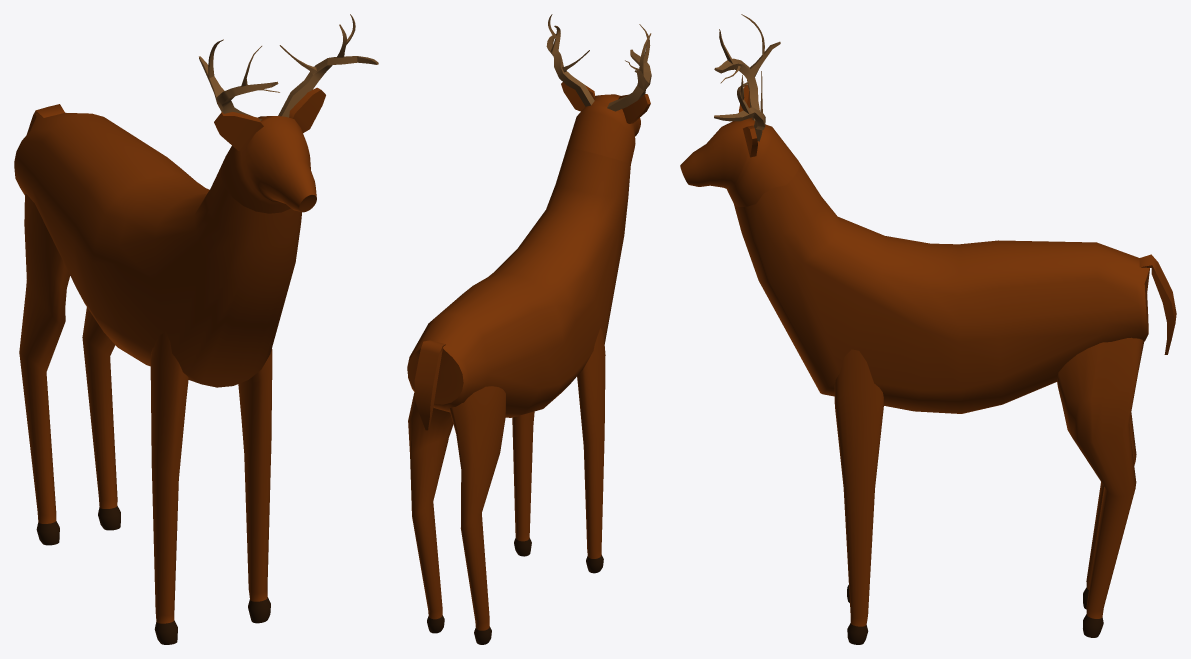
Rendered from deer.fbx.
3 views of the same model, side by side, from view 1: azimuth 30°, elevation 25°; view 2: azimuth 150°, elevation 25°; view 3: azimuth 270°, elevation 25° (orthographic). The views are drawn at different scales.
Visible parts, largest first — view 1: frontRight1; view 2: frontRight1; view 3: frontRight1.
Boxes of the visible parts, x1=… form: frontRight1: x1=14, y1=14, x2=378, y2=644; frontRight1: x1=407, y1=14, x2=651, y2=644; frontRight1: x1=680, y1=14, x2=1176, y2=644.
Size of the model in its own units: 10.45 by 43.46 by 33.41.
